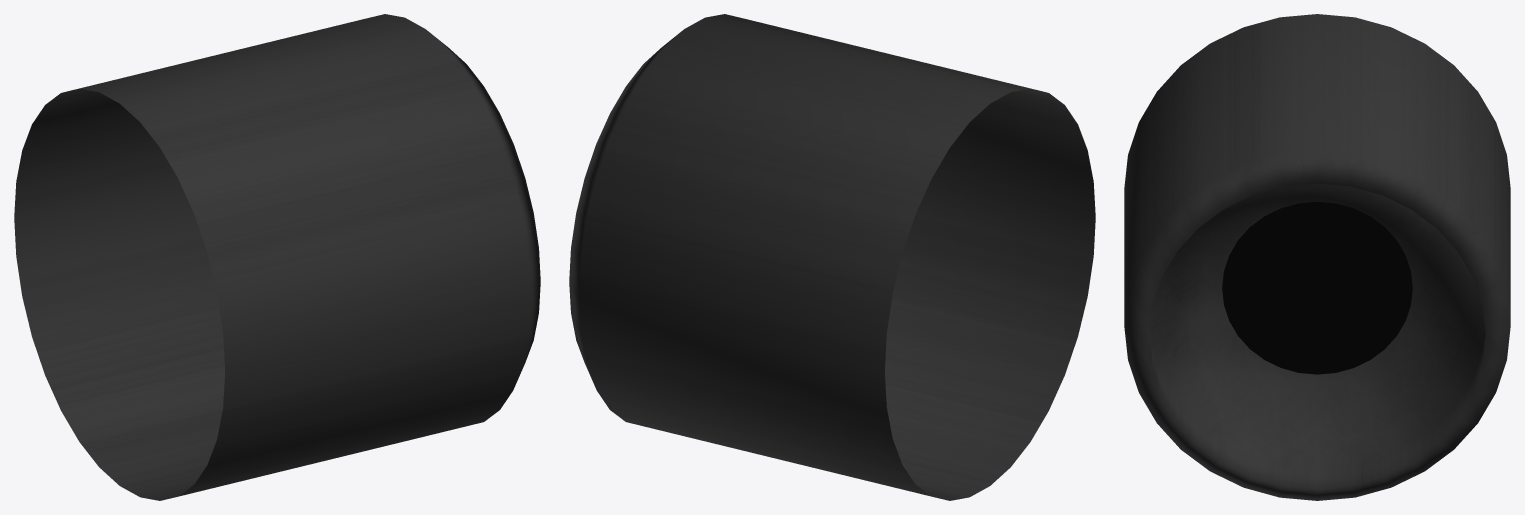
Rendered from IEC Repulsor Launcher Barrel.obj.
3 views of the same model, side by side, from view 1: azimuth 30°, elevation 25°; view 2: azimuth 150°, elevation 25°; view 3: azimuth 270°, elevation 25° (orthographic). The views are drawn at different scales.
Parts seen in each view (by area): view 1: IEC_Repulsor_Launcher_Barrel_Cube.004; view 2: IEC_Repulsor_Launcher_Barrel_Cube.004; view 3: IEC_Repulsor_Launcher_Barrel_Cube.004.
Boxes of the visible parts, box(x1,y1,x2,y2) form: IEC_Repulsor_Launcher_Barrel_Cube.004: box(14, 14, 540, 500); IEC_Repulsor_Launcher_Barrel_Cube.004: box(569, 14, 1095, 500); IEC_Repulsor_Launcher_Barrel_Cube.004: box(1124, 14, 1510, 500).
Bounding box in the file's own units: 0.4569 × 0.5073 × 0.5073.
